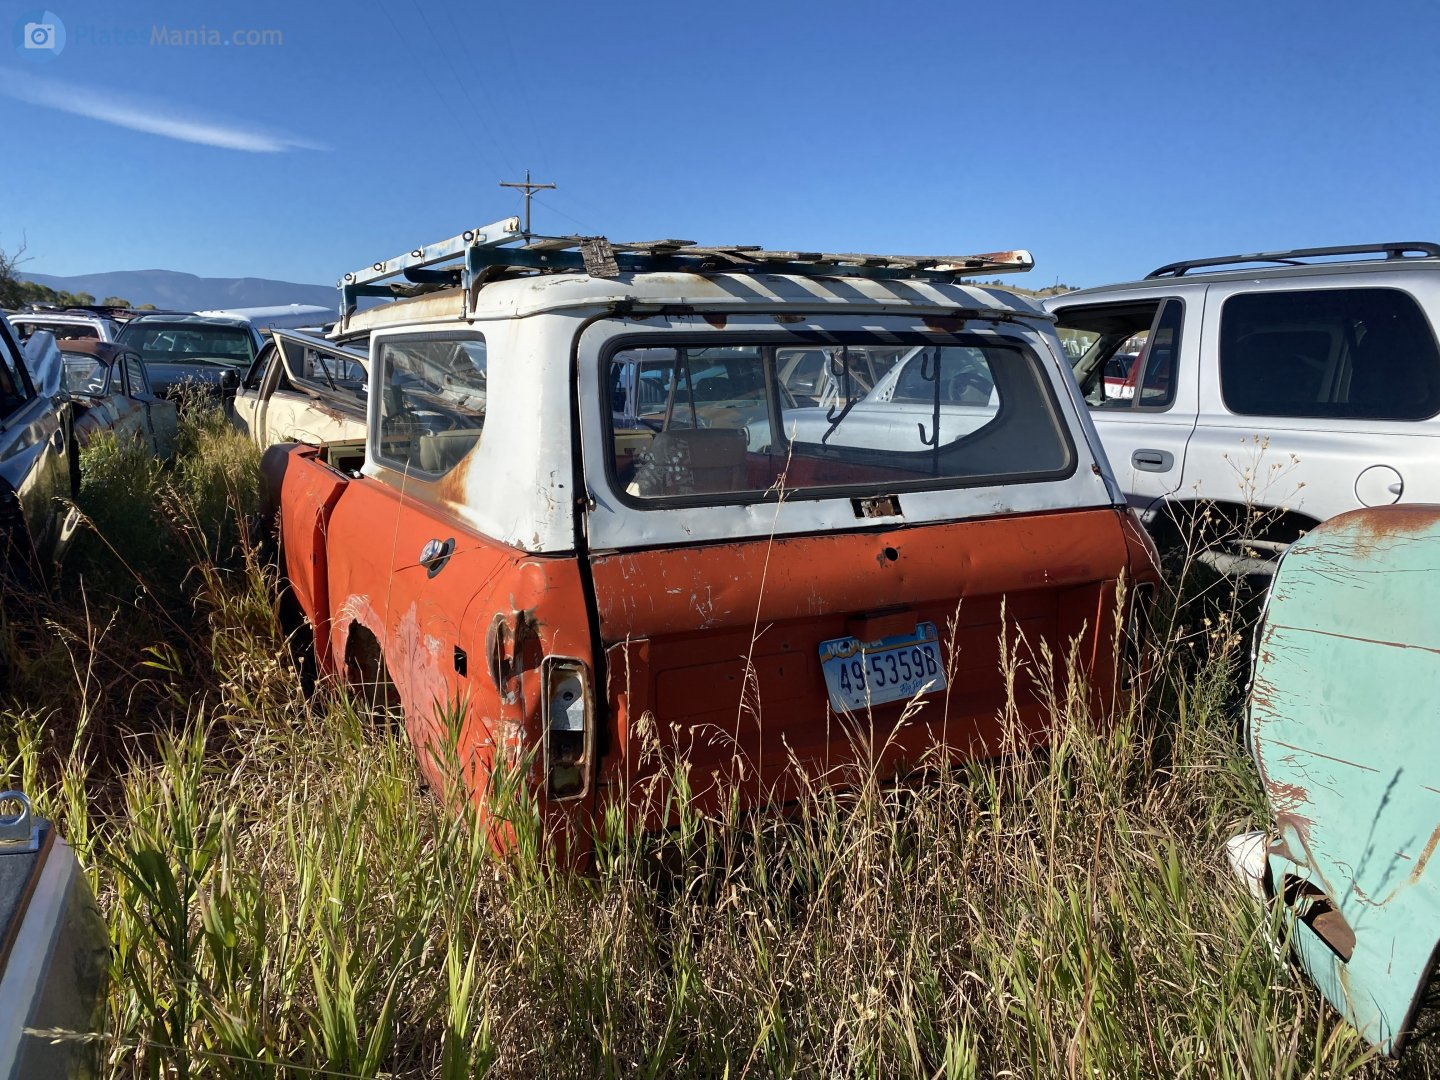license plate: (812, 644, 944, 714)
